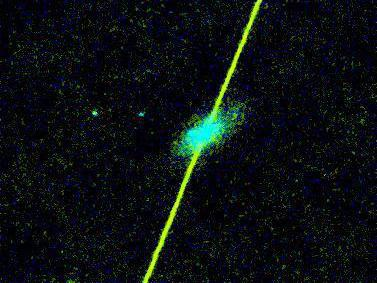star: (222, 102, 252, 132)
